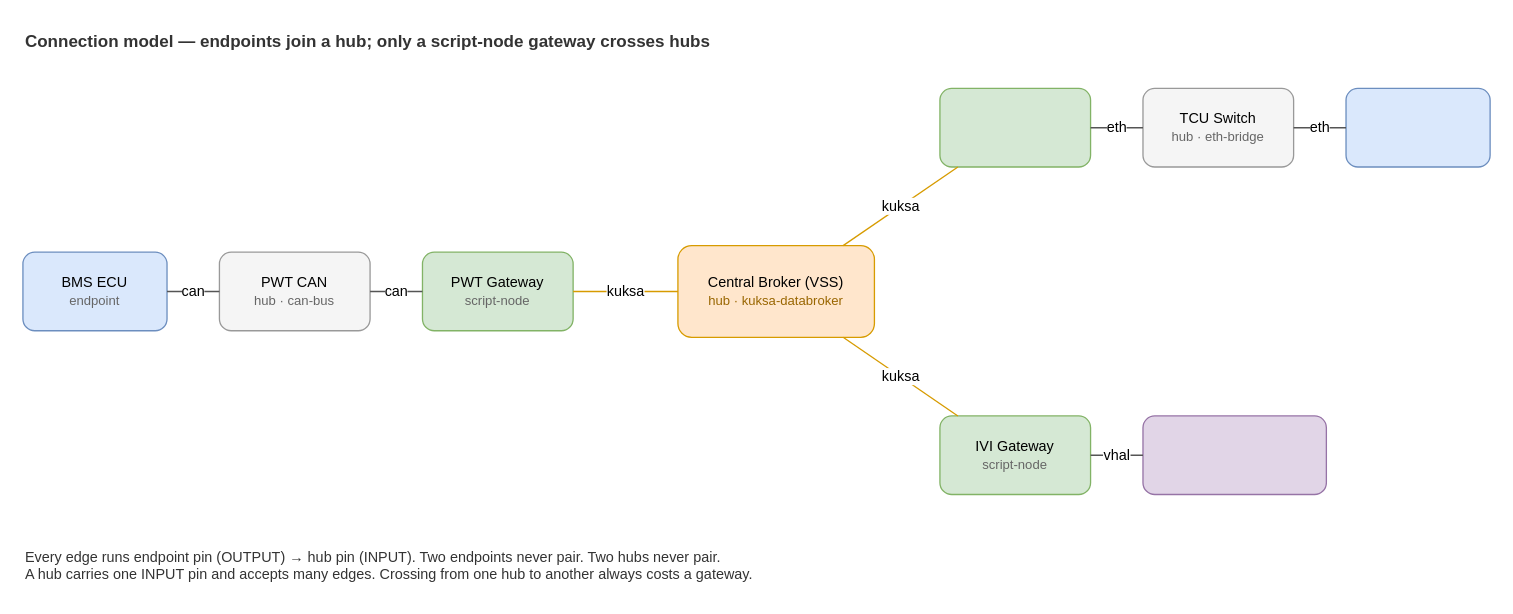
Some shapes in this 1513 by 614 pixel diagram are drawn without their labels. Here are the shapes that lost their labels. From the top down, the centre of each, then its label:
At [1015,127]: "TCU Gateway script-node".
At [1417,127]: "TCU-NAD endpoint".
At [1234,455]: "IVI – Android endpoint · skycraft".
